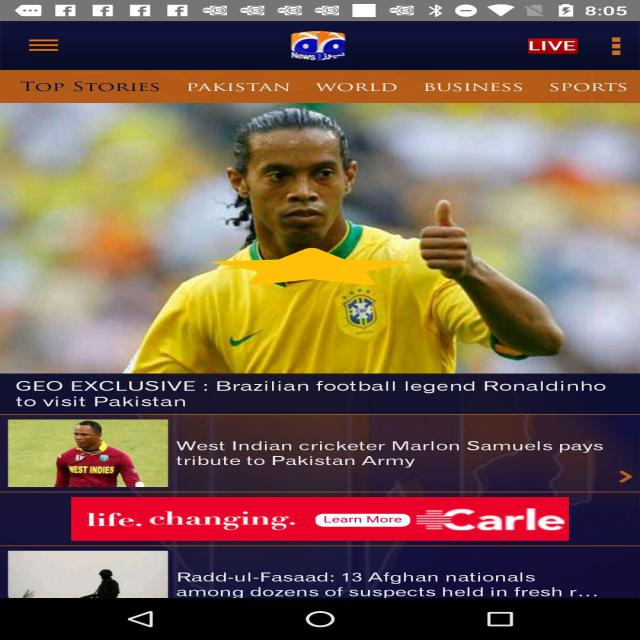forced continuity: (212, 248, 411, 285)
